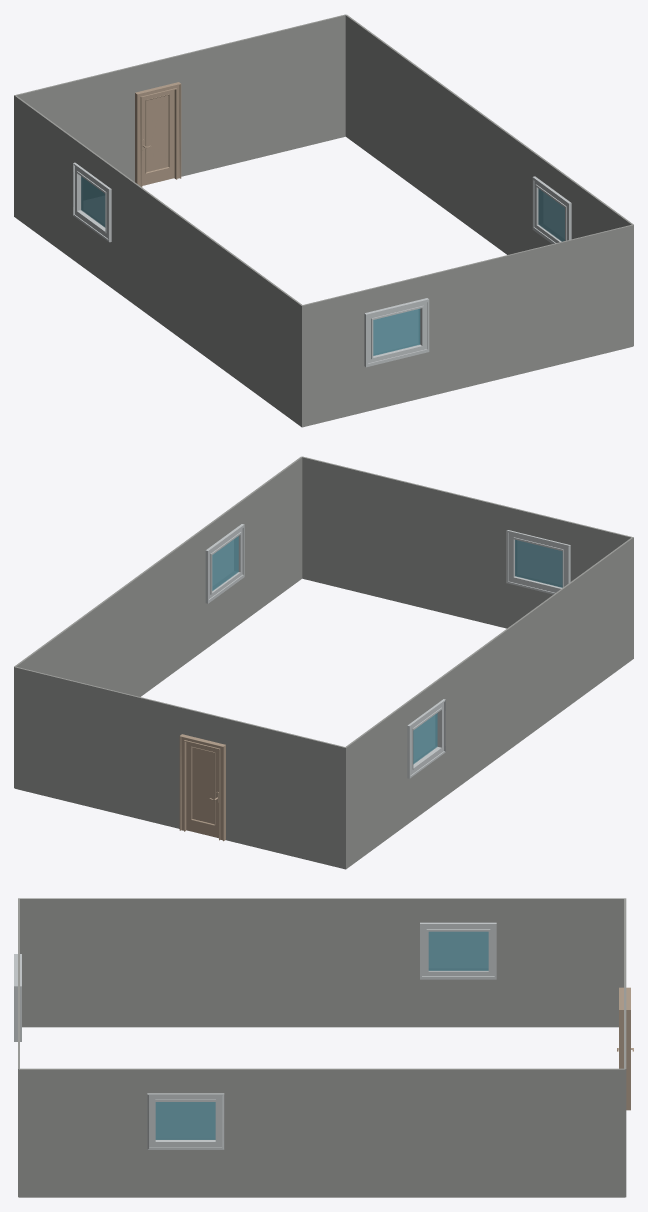
The model's file is Exterior_casa.fbx.
The picture shows the model from 3 angles, top to bottom: view 1: azimuth 30°, elevation 25°; view 2: azimuth 150°, elevation 25°; view 3: azimuth 270°, elevation 25°; orthographic projection. The views are drawn at different scales.
Parts seen in each view (by area): view 1: Parede_01, Parede_02, Parede_04, Parede_03, Porta_01; view 2: Parede_04, Parede_02, Parede_01, Parede_03, Porta_01; view 3: Parede_03, Parede_02, Parede_04, Parede_01.
Part boxes in pixels (bbox=[...]): Parede_01: bbox=[301, 224, 633, 427]; Parede_02: bbox=[15, 95, 301, 426]; Parede_04: bbox=[14, 14, 345, 216]; Parede_03: bbox=[345, 14, 633, 345]; Porta_01: bbox=[142, 90, 174, 185]; Parede_04: bbox=[14, 666, 346, 869]; Parede_02: bbox=[345, 537, 632, 868]; Parede_01: bbox=[302, 456, 633, 658]; Parede_03: bbox=[14, 456, 302, 787]; Porta_01: bbox=[186, 742, 218, 838]; Parede_03: bbox=[19, 1068, 625, 1197]; Parede_02: bbox=[19, 898, 625, 1027]; Parede_04: bbox=[619, 898, 630, 1197]; Parede_01: bbox=[14, 898, 21, 1197].
Size of the model in its own units: 1017 by 350 by 1534.
